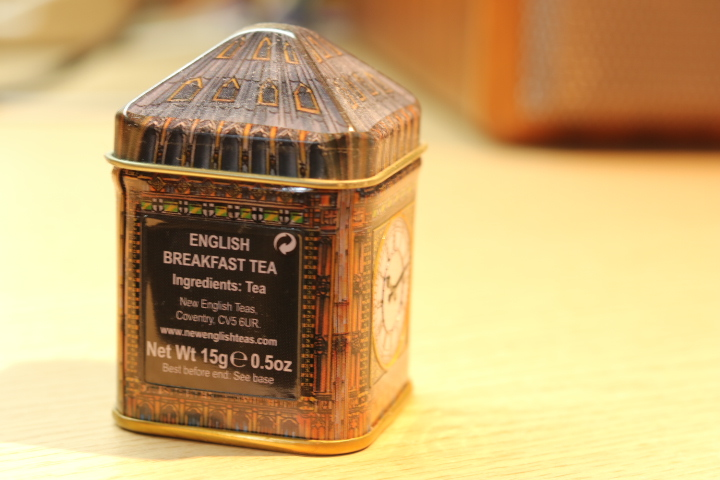Big Ben: (78, 14, 457, 463)
